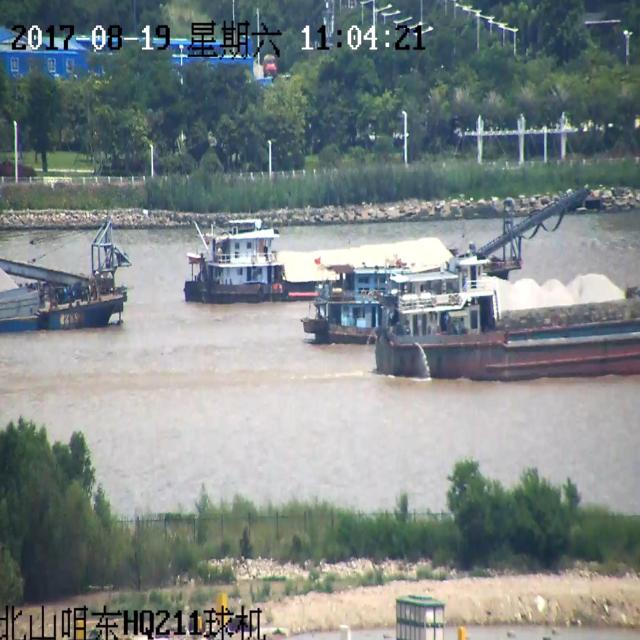cargoship: (379, 270, 640, 381), (180, 204, 451, 284), (0, 218, 136, 338), (308, 261, 438, 334)
